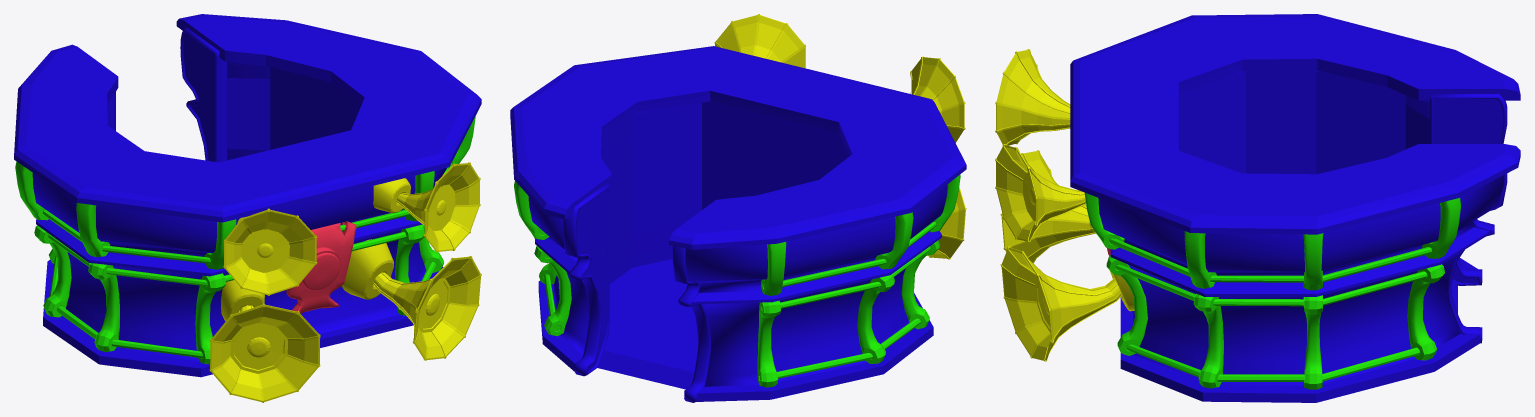
3 views of the same model, side by side, from view 1: azimuth 30°, elevation 25°; view 2: azimuth 150°, elevation 25°; view 3: azimuth 270°, elevation 25° (orthographic). The views are drawn at different scales.
Visible parts, largest first — view 1: Sphere.002; view 2: Sphere.002; view 3: Sphere.002.
Boxes of the visible parts, x1=… form: Sphere.002: x1=14, y1=14, x2=481, y2=402; Sphere.002: x1=510, y1=14, x2=966, y2=402; Sphere.002: x1=995, y1=14, x2=1520, y2=402.
Bounding box in the file's own units: 1245 × 582 × 1301.
